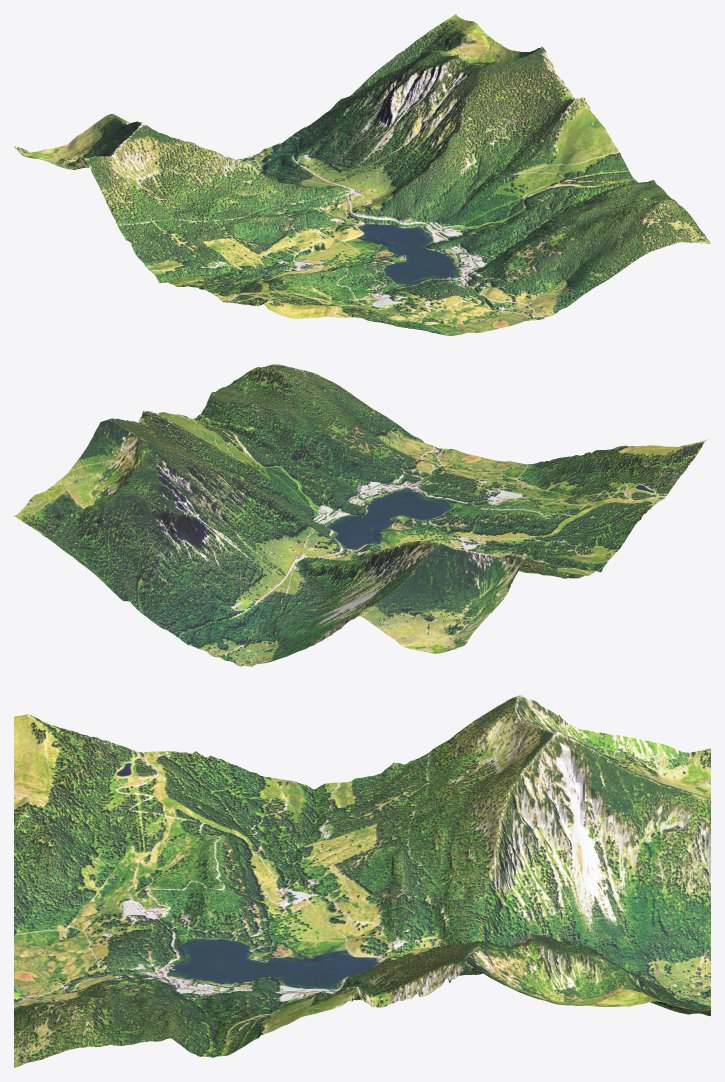
File: asset.glb
3 renders of one model, top to bottom at view 1: azimuth 30°, elevation 25°; view 2: azimuth 150°, elevation 25°; view 3: azimuth 270°, elevation 25°, orthographic. The views are drawn at different scales.
Visible parts, largest first — view 1: 2024_Spitzingsee_DGM_10m; view 2: 2024_Spitzingsee_DGM_10m; view 3: 2024_Spitzingsee_DGM_10m.
Part boxes in pixels (x1,y1,x2,y2): 2024_Spitzingsee_DGM_10m: (14,14,710,335); 2024_Spitzingsee_DGM_10m: (14,364,707,666); 2024_Spitzingsee_DGM_10m: (14,695,710,1067).
Bounding box in the file's own units: 2990 × 824 × 2990.
1 material, 1 textured.
